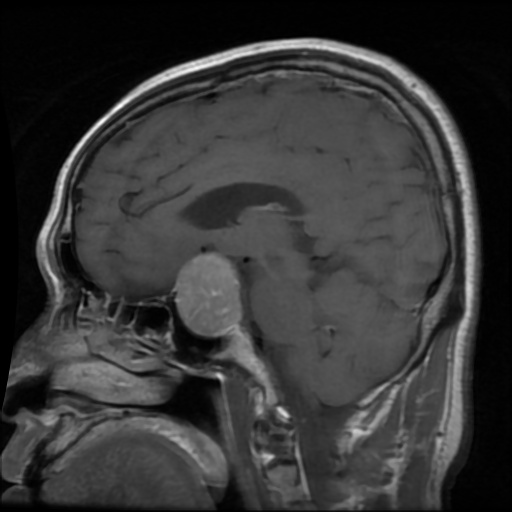pituitary: (177, 251, 241, 335)
